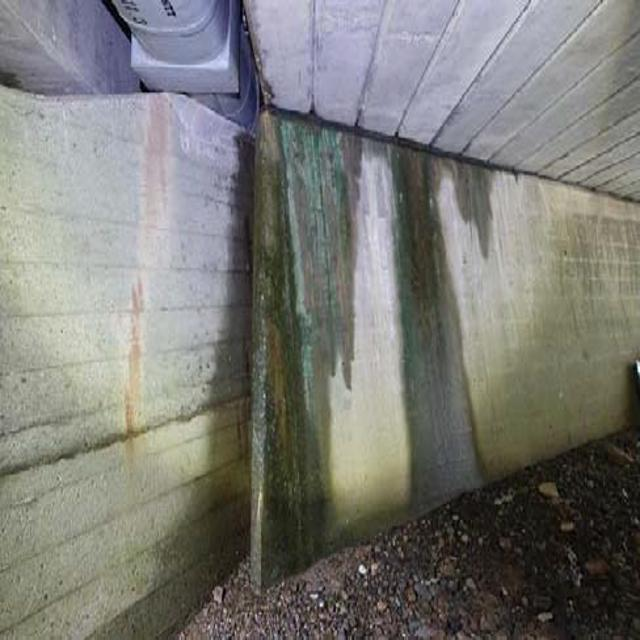leakage: (238, 97, 502, 564)
